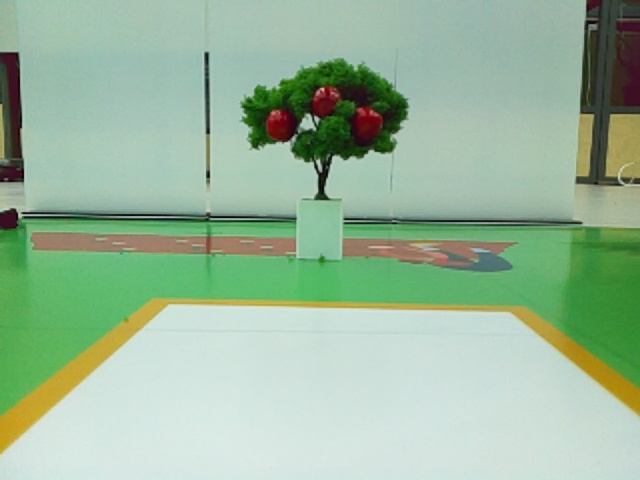apple: (355, 107, 383, 137), (313, 86, 341, 115), (266, 110, 289, 141)
